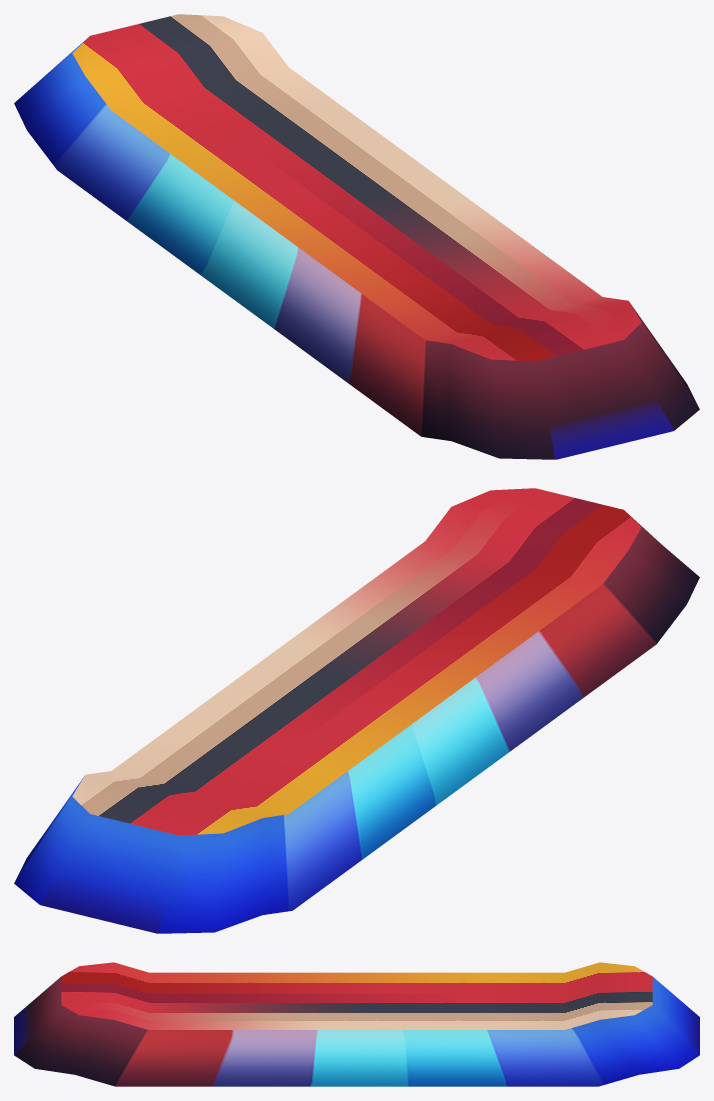
Rendered from HoverBoard_Glow.fbx.
3 views of the same model, one above another, from view 1: azimuth 30°, elevation 25°; view 2: azimuth 150°, elevation 25°; view 3: azimuth 270°, elevation 25° (orthographic). The views are drawn at different scales.
Parts seen in each view (by area): view 1: Hoverboard_Glow; view 2: Hoverboard_Glow; view 3: Hoverboard_Glow.
Boxes of the visible parts, left/top/right/bottom form: Hoverboard_Glow: left=14, top=14, right=699, bottom=459; Hoverboard_Glow: left=14, top=488, right=699, bottom=933; Hoverboard_Glow: left=14, top=962, right=699, bottom=1086.
Bounding box in the file's own units: 0.5413 × 0.1911 × 2.06.
